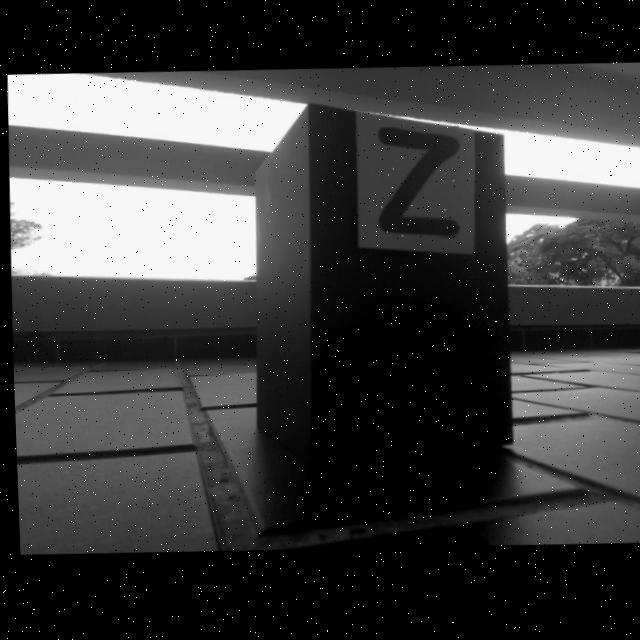Z: (377, 131, 457, 239)
